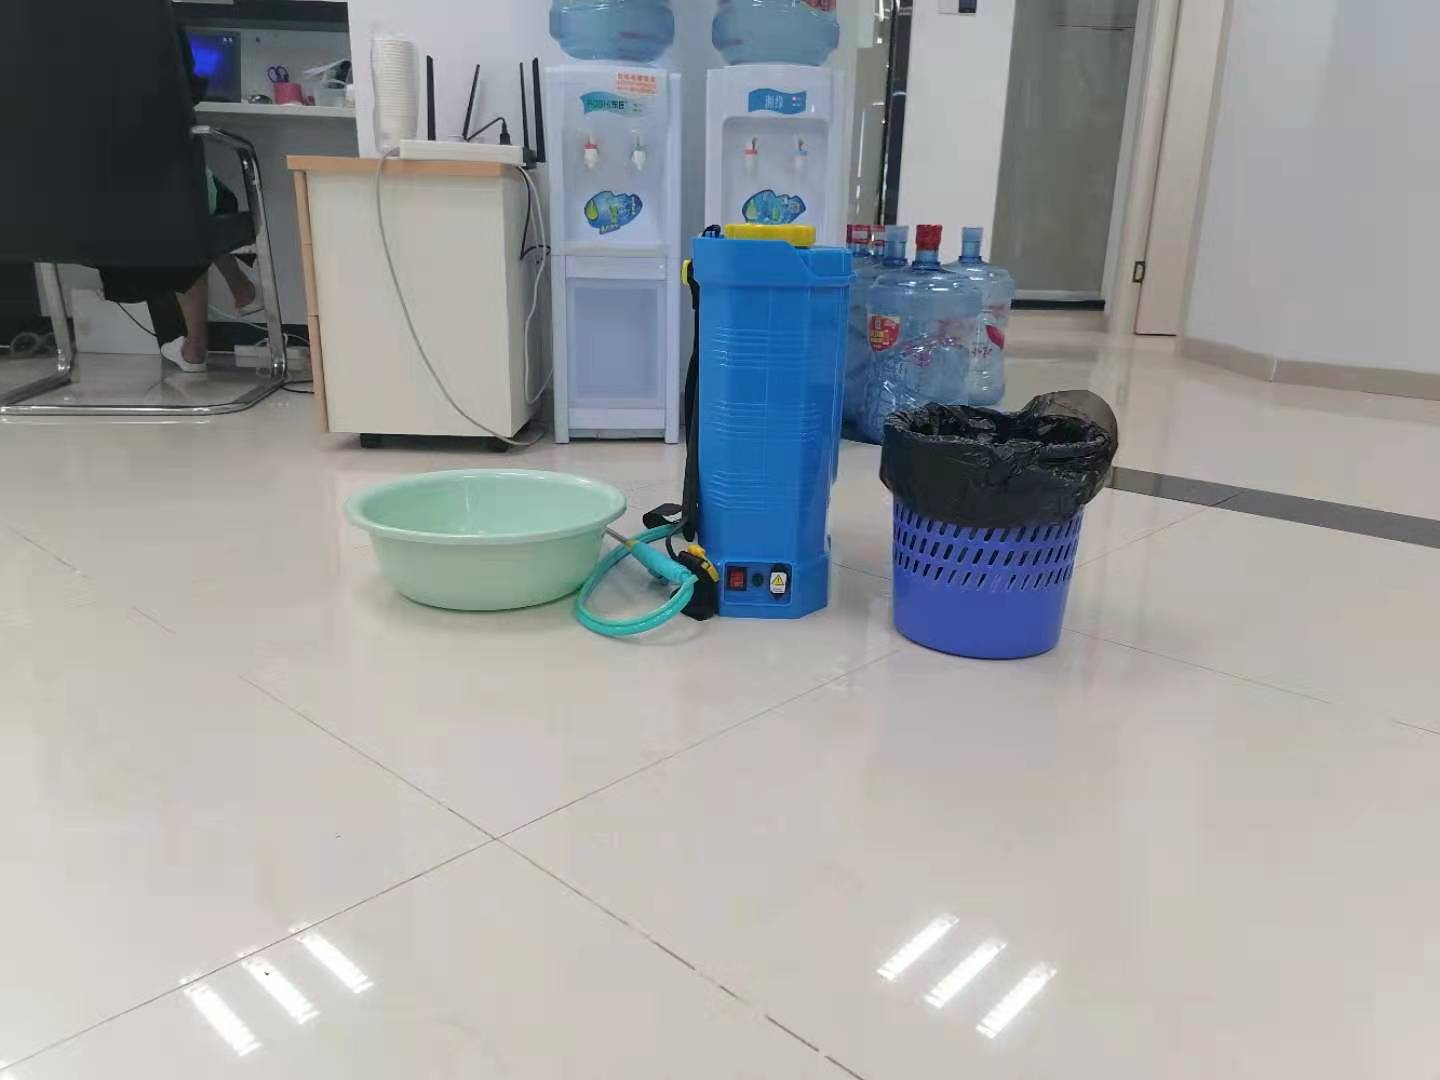berrl: (668, 213, 859, 632)
